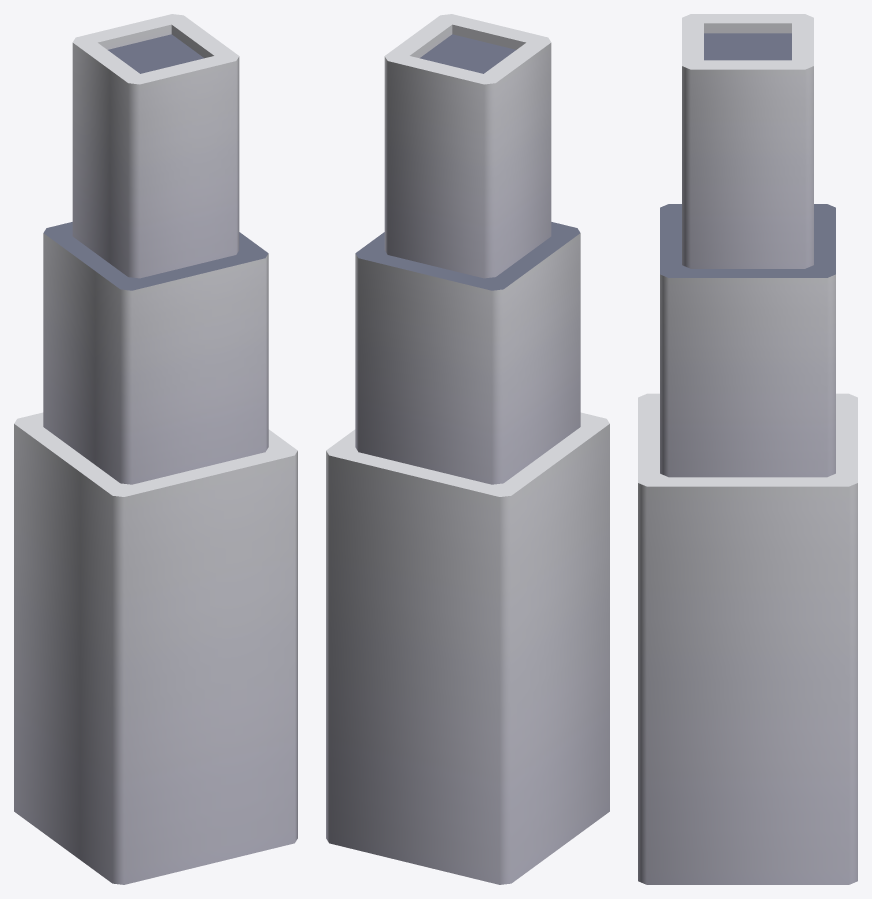
File: low-detail-building-f.glb
3 renders of one model, left to right at view 1: azimuth 30°, elevation 25°; view 2: azimuth 150°, elevation 25°; view 3: azimuth 270°, elevation 25°, orthographic. The views are drawn at different scales.
Visible parts, largest first — view 1: low-detail-building-f; view 2: low-detail-building-f; view 3: low-detail-building-f.
Part boxes in pixels (left/top/right/bottom): low-detail-building-f: left=14, top=14, right=297, bottom=884; low-detail-building-f: left=326, top=14, right=609, bottom=884; low-detail-building-f: left=638, top=14, right=857, bottom=884.
Bounding box in the file's own units: 0.5001 × 2 × 0.5001.
1 material, 1 textured.
